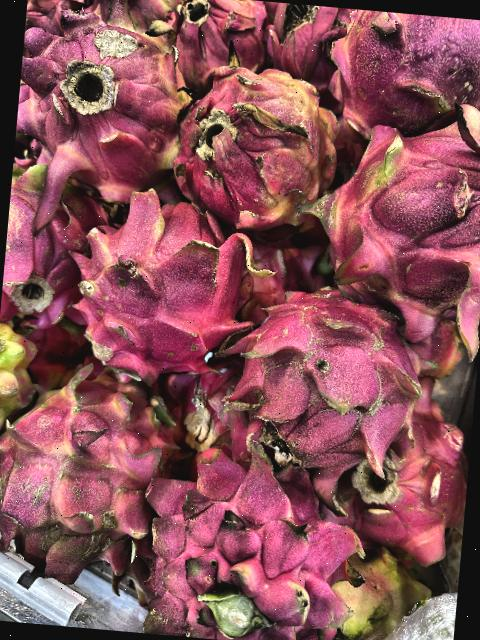buah-naga-belum-matang: (0, 355, 170, 594), (13, 0, 197, 187), (165, 58, 348, 232)
buah-naga-matang: (126, 428, 366, 640), (231, 282, 426, 490), (66, 196, 271, 386), (312, 109, 480, 340), (326, 400, 471, 566), (311, 6, 480, 139), (0, 163, 98, 335), (150, 0, 277, 83), (255, 1, 357, 90)
